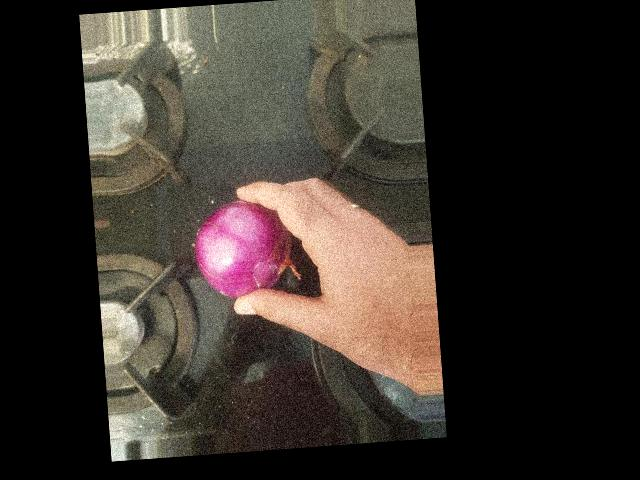onion: (141, 128, 238, 215)
